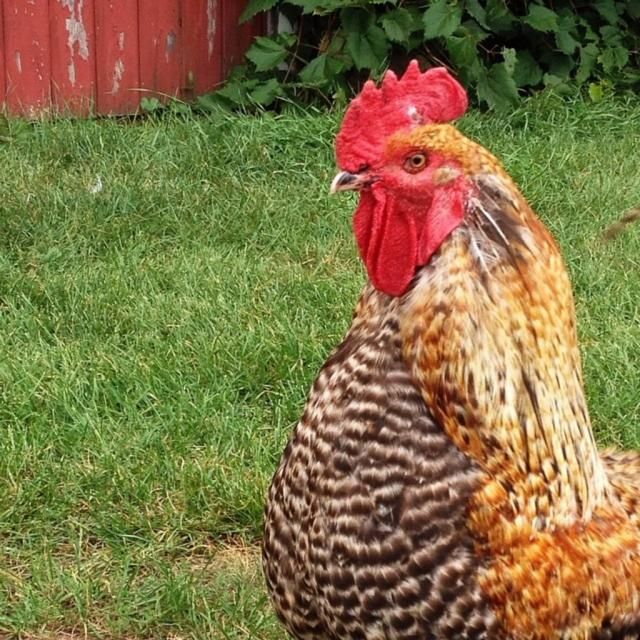Chicken: (252, 50, 639, 639)
